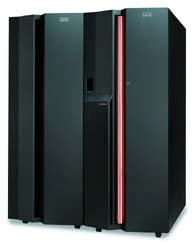ibm-server: (4, 5, 188, 236), (90, 4, 175, 237)
